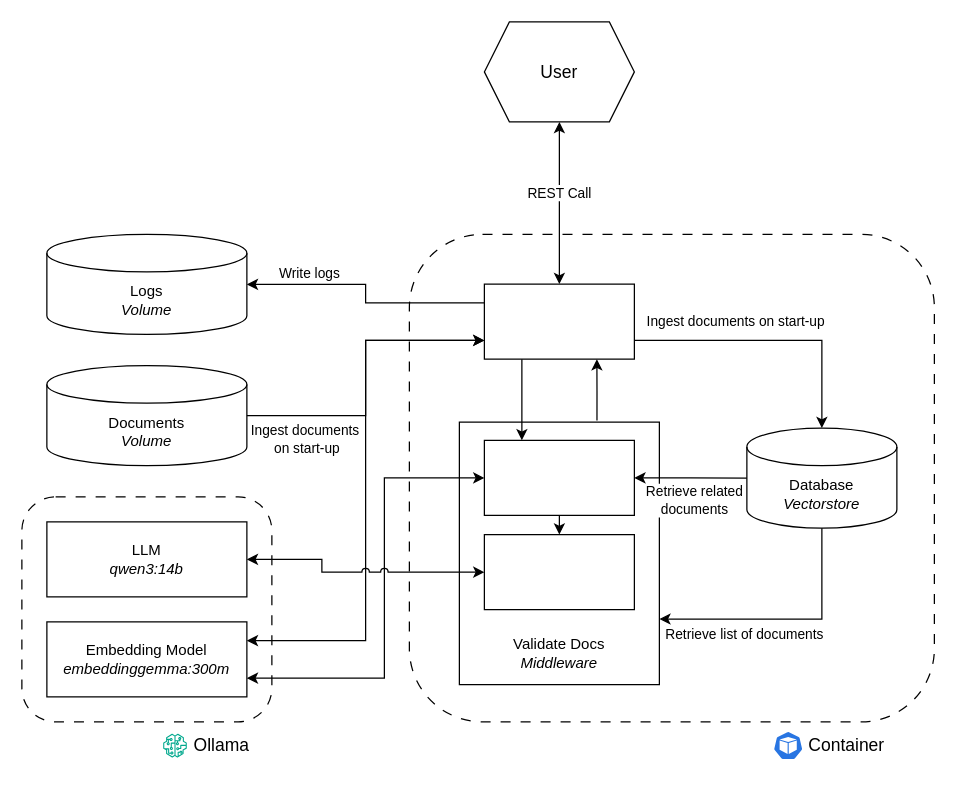
This 956x793 diagram has some shape labels left out. Each missing label, with the centre of its shape:
Agent: the point at 558,571
Interface FastAPI: the point at 558,321
RAG Middleware: the point at 558,477
